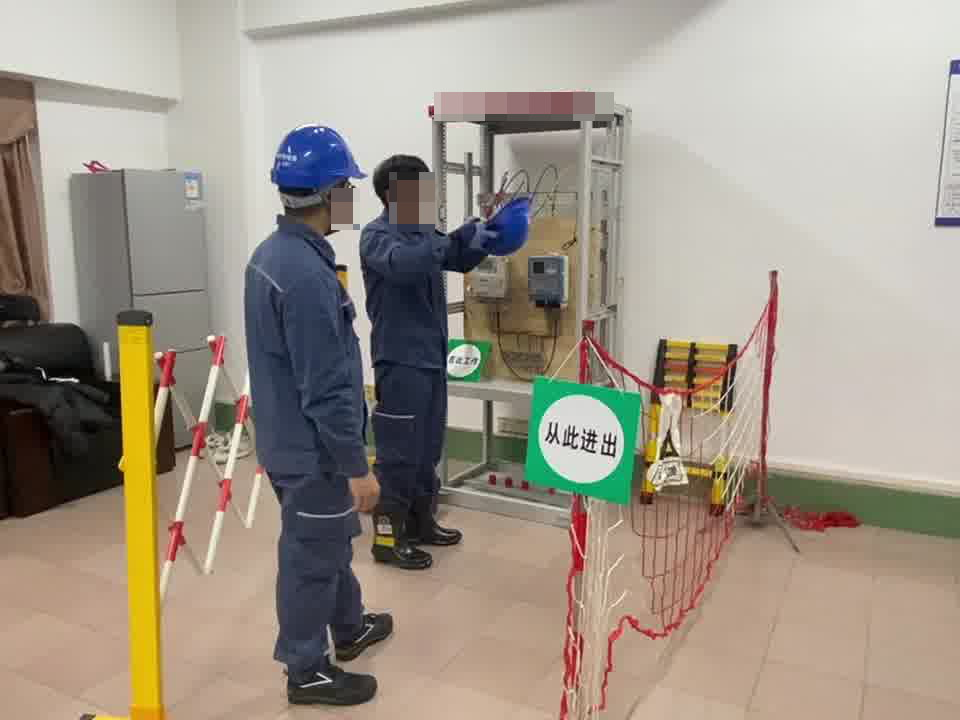downsuit: (266, 465, 372, 672), (375, 370, 449, 530)
glove: (448, 214, 502, 260)
halt: (270, 123, 365, 231)
hand: (344, 475, 385, 513)
inear: (314, 182, 346, 222)
intosign: (534, 379, 637, 500)
noear: (378, 182, 406, 216)
person: (242, 124, 389, 705), (360, 153, 531, 569)
shoe: (372, 509, 423, 565), (408, 500, 458, 541)
unhalt: (374, 155, 434, 221)
upsuit: (245, 226, 367, 467), (362, 208, 521, 365)
worksign: (448, 339, 486, 384)
